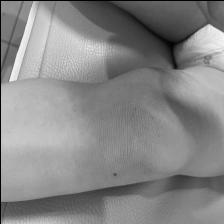DA: (86, 80, 162, 180)
